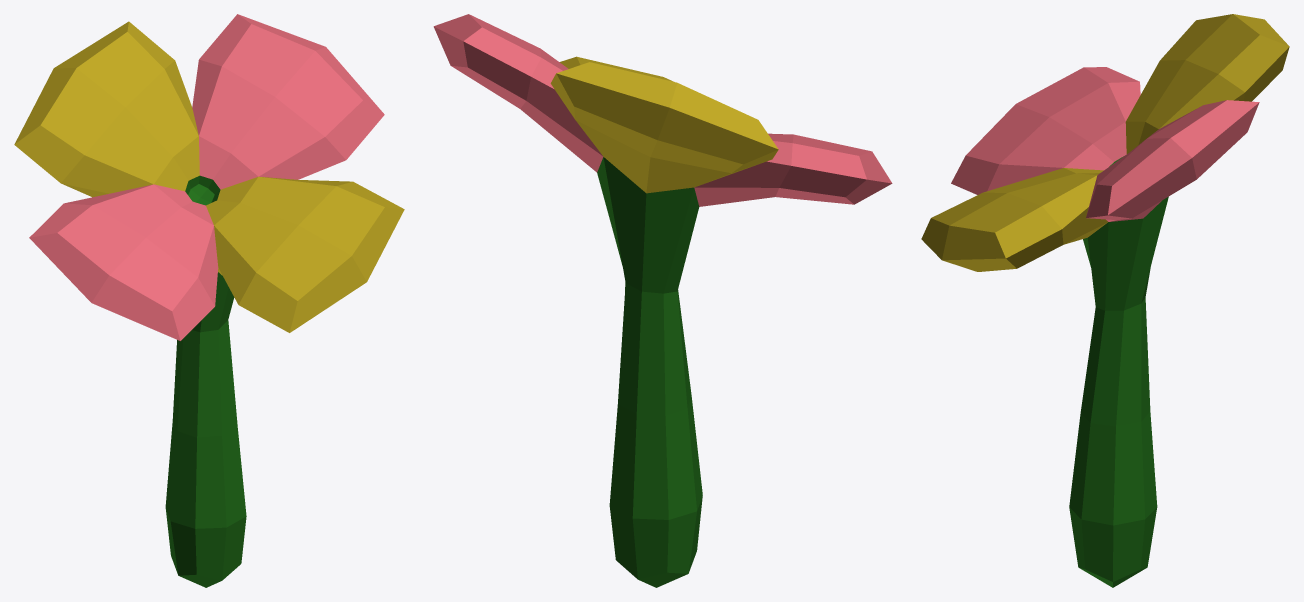
Rendered from flowers3.fbx.
3 renders of one model, left to right at view 1: azimuth 30°, elevation 25°; view 2: azimuth 150°, elevation 25°; view 3: azimuth 270°, elevation 25°, orthographic. The views are drawn at different scales.
Visible parts, largest first — view 1: Cube.002; view 2: Cube.002; view 3: Cube.002.
Part boxes in pixels (x1,y1,x2,y2): Cube.002: (14,14,404,587); Cube.002: (433,14,892,587); Cube.002: (921,14,1289,587).
Size of the model in its own units: 96.03 by 131 by 79.91.
